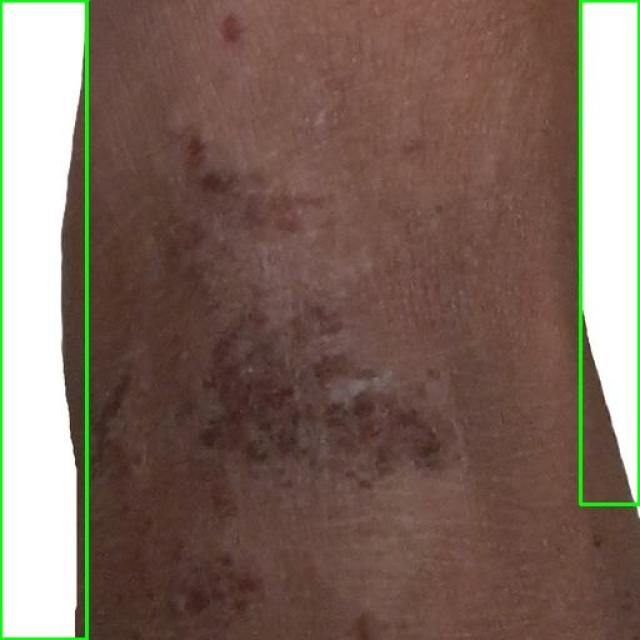Contact Dermatitis: (0, 0, 86, 639), (580, 0, 639, 504)
